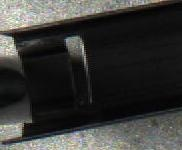press: (0, 9, 126, 147), (148, 5, 182, 144)
